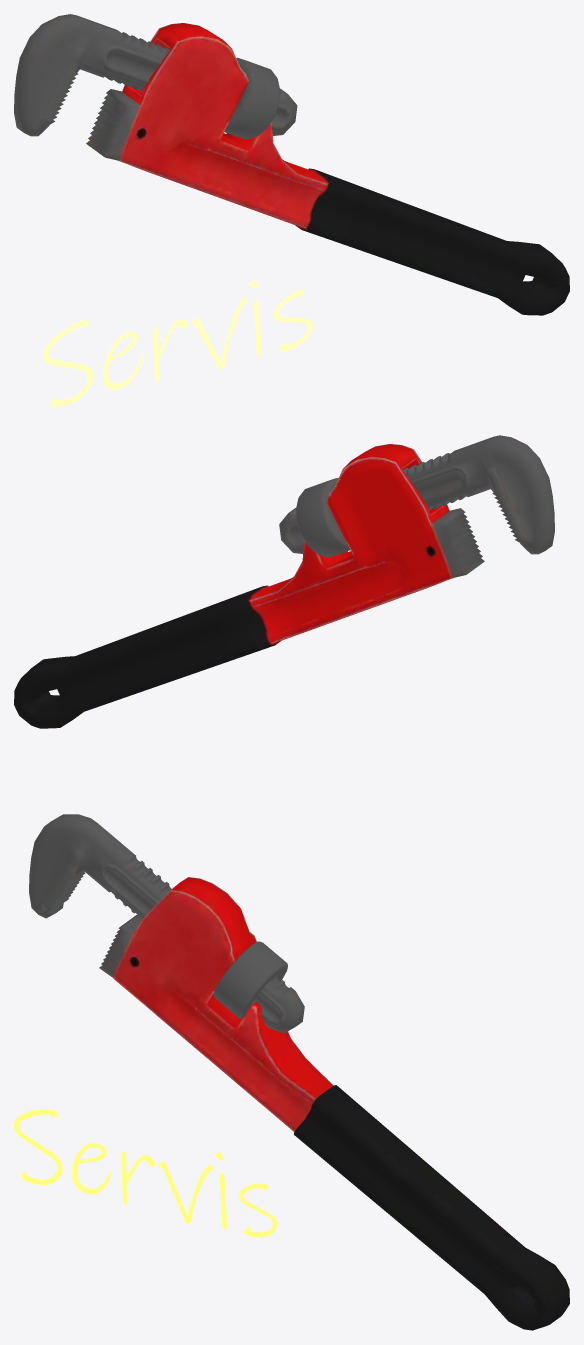
Rendered from servis_mobitel.glb.
The picture shows the model from 3 angles, top to bottom: view 1: azimuth 30°, elevation 25°; view 2: azimuth 150°, elevation 25°; view 3: azimuth 330°, elevation 25°; orthographic projection. The views are drawn at different scales.
Visible parts, largest first — view 1: servis, Servis; view 2: servis; view 3: servis, Servis.
Boxes of the visible parts, <box> form: servis: <box>14,14,569,315</box>; Servis: <box>43,280,312,406</box>; servis: <box>14,435,554,728</box>; servis: <box>29,814,569,1330</box>; Servis: <box>14,1109,277,1237</box>.
Bounding box in the file's own units: 0.6475 × 0.4623 × 0.0855.
Materials: 2 (1 with a texture image).
